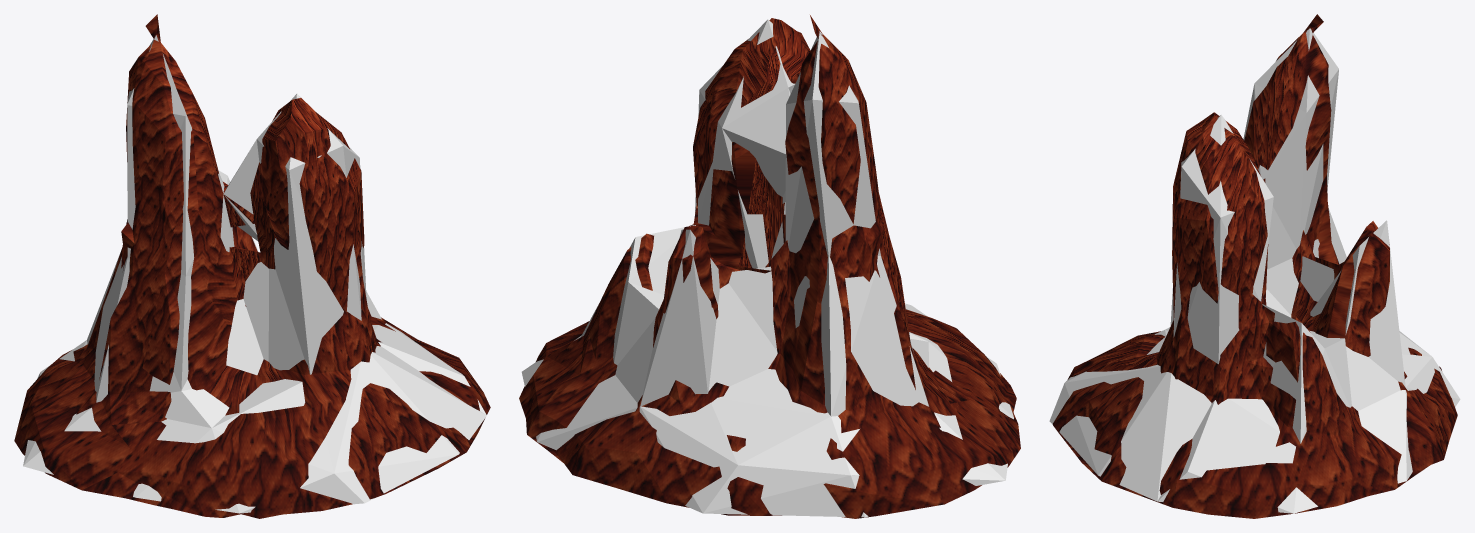
File: Cupinzeiro-03-Torres.glb
The picture shows the model from 3 angles, left to right: view 1: azimuth 30°, elevation 25°; view 2: azimuth 150°, elevation 25°; view 3: azimuth 270°, elevation 25°; orthographic projection. The views are drawn at different scales.
Parts seen in each view (by area): view 1: Cupinzeiro-03-Torres, Cupinzeiro-03-Torres_COL; view 2: Cupinzeiro-03-Torres, Cupinzeiro-03-Torres_COL; view 3: Cupinzeiro-03-Torres, Cupinzeiro-03-Torres_COL.
Part boxes in pixels (x1=…): Cupinzeiro-03-Torres: x1=14, y1=14, x2=490, y2=518; Cupinzeiro-03-Torres_COL: x1=23, y1=35, x2=486, y2=513; Cupinzeiro-03-Torres: x1=519, y1=15, x2=1020, y2=518; Cupinzeiro-03-Torres_COL: x1=521, y1=19, x2=1013, y2=517; Cupinzeiro-03-Torres: x1=1053, y1=14, x2=1457, y2=518; Cupinzeiro-03-Torres_COL: x1=1049, y1=28, x2=1460, y2=513.
Size of what is drawn, in the model's own units: 2.88 by 2.55 by 2.51.
Materials: 1 (1 with a texture image).
